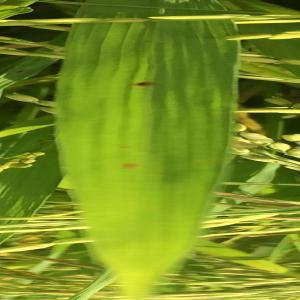Brown_Spot: (125, 71, 163, 97), (114, 157, 144, 174)
